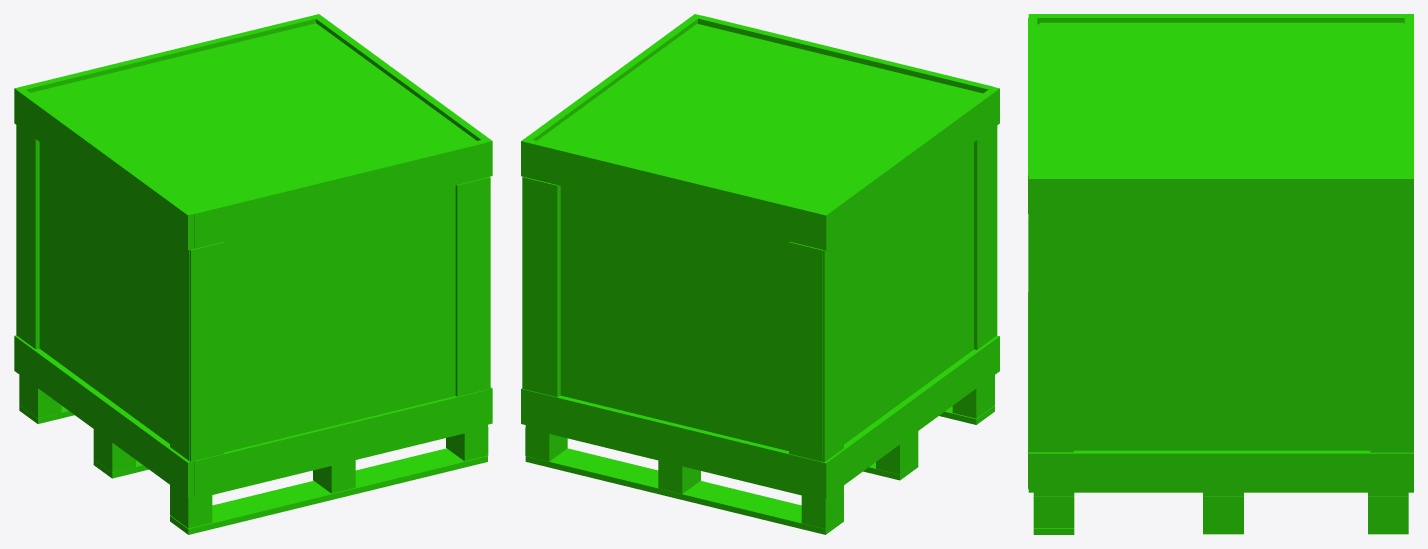
The model's file is Woodbox_04B_Lod0.fbx.
3 renders of one model, left to right at view 1: azimuth 30°, elevation 25°; view 2: azimuth 150°, elevation 25°; view 3: azimuth 270°, elevation 25°, orthographic. The views are drawn at different scales.
Visible parts, largest first — view 1: Woodbox_04B_Lod0; view 2: Woodbox_04B_Lod0; view 3: Woodbox_04B_Lod0.
Part boxes in pixels (bbox=[...]): Woodbox_04B_Lod0: bbox=[14, 14, 492, 534]; Woodbox_04B_Lod0: bbox=[521, 14, 999, 534]; Woodbox_04B_Lod0: bbox=[1028, 14, 1413, 534].
Size of the model in its own units: 143 by 144 by 141.
